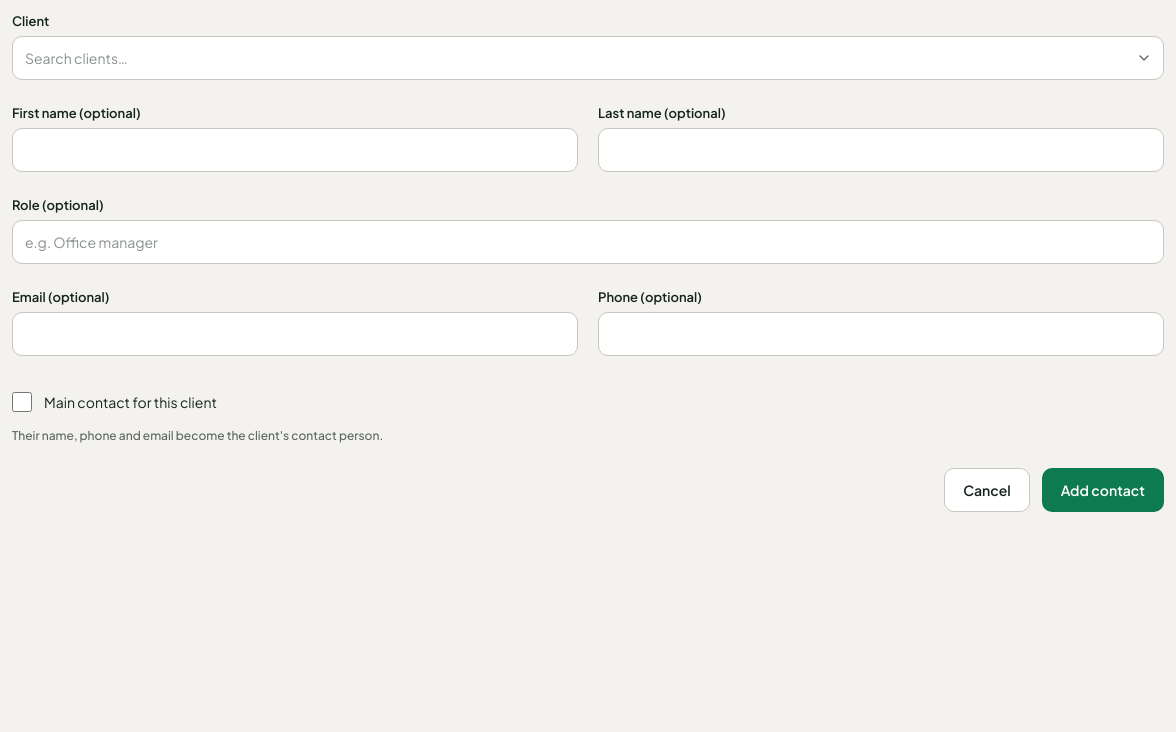
Test: The contact form › shows the API's errors on their own fields
This screenshot has width=1176, height=732.
Click the dropdown labelled "Client".
click(588, 58)  # box left=12, top=36, right=1164, bottom=80
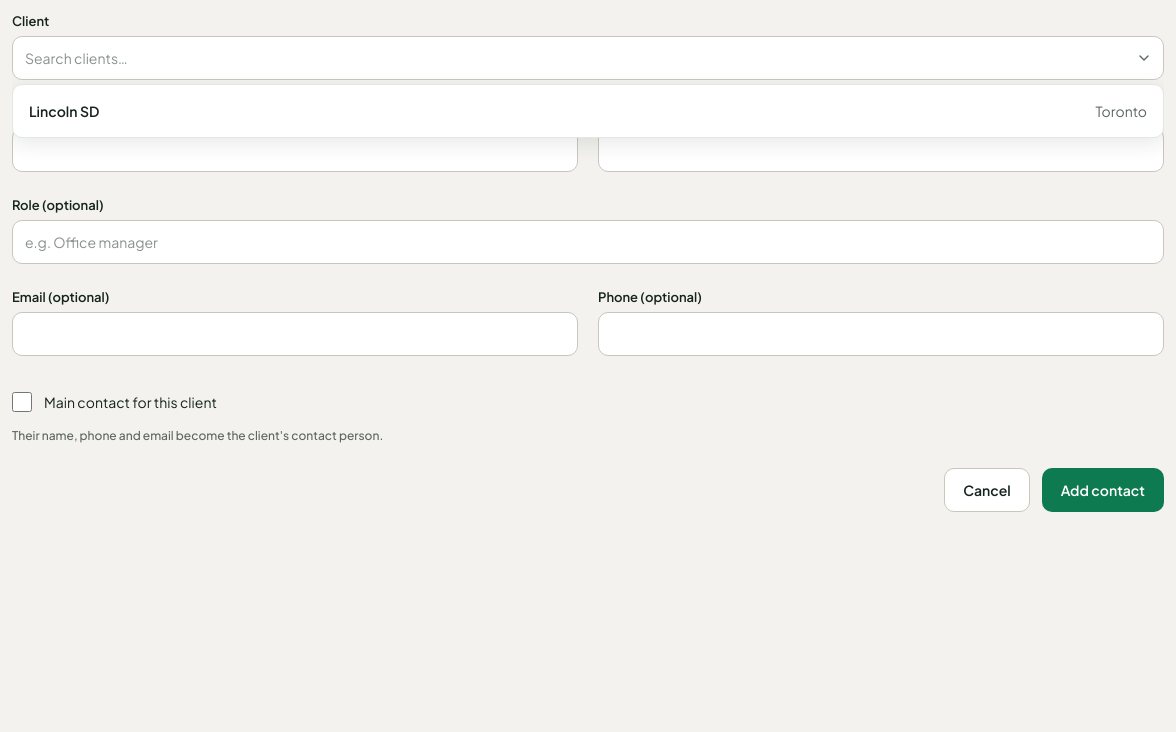
Click the option "Lincoln SD Toronto".
click(64, 111)  # box left=29, top=102, right=1147, bottom=120
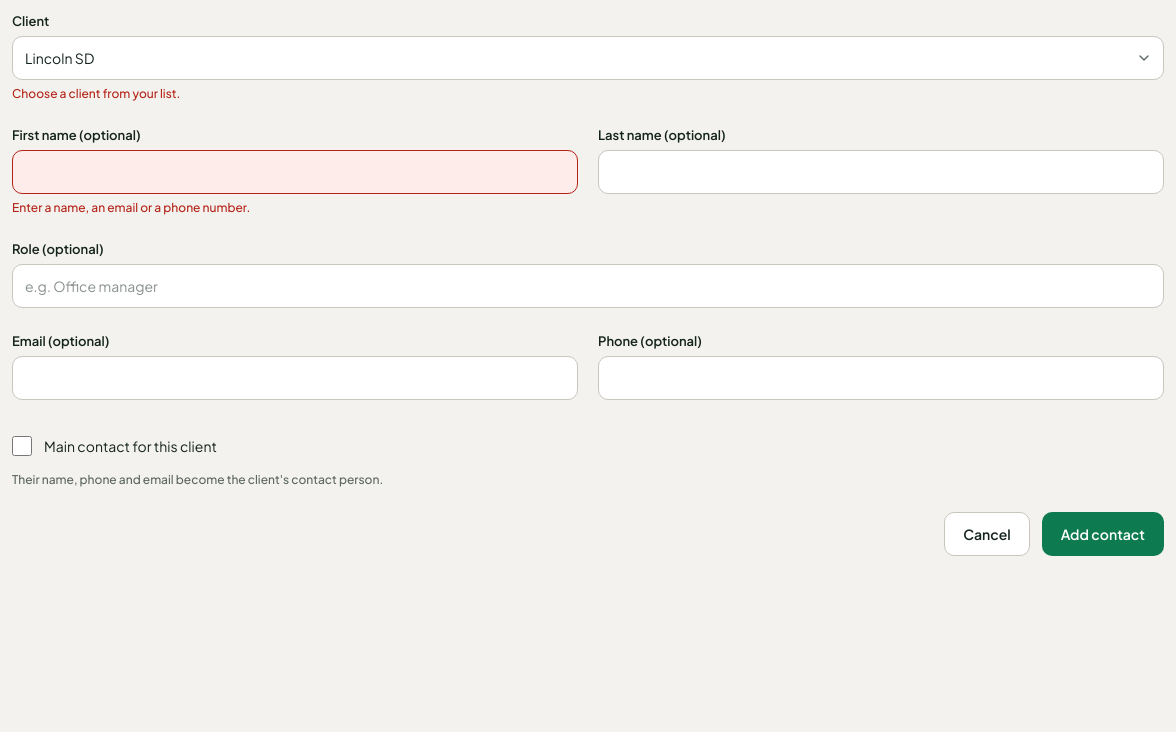
Expected: the text "Enter a name, an email or a phone number." is shown, left=12, top=200, right=250, bottom=215
Expected: the text "Choose a client from your list." is shown, left=12, top=86, right=180, bottom=101
